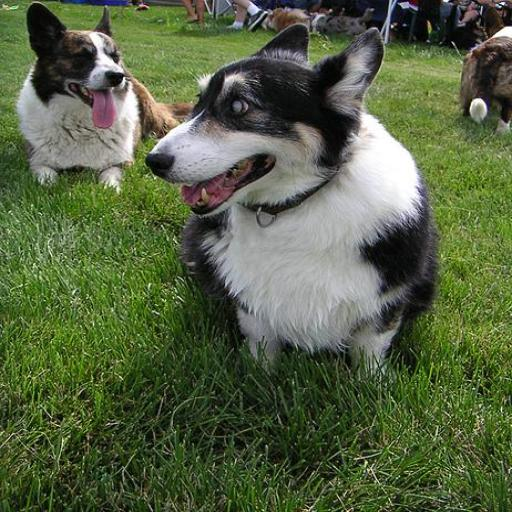dog_face: (152, 22, 380, 214)
